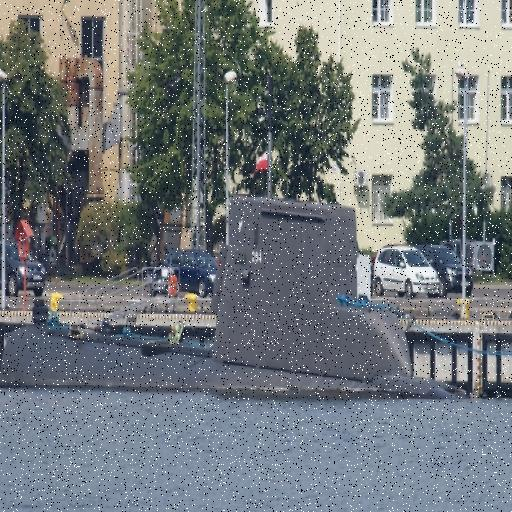submarine: (1, 183, 458, 399)
